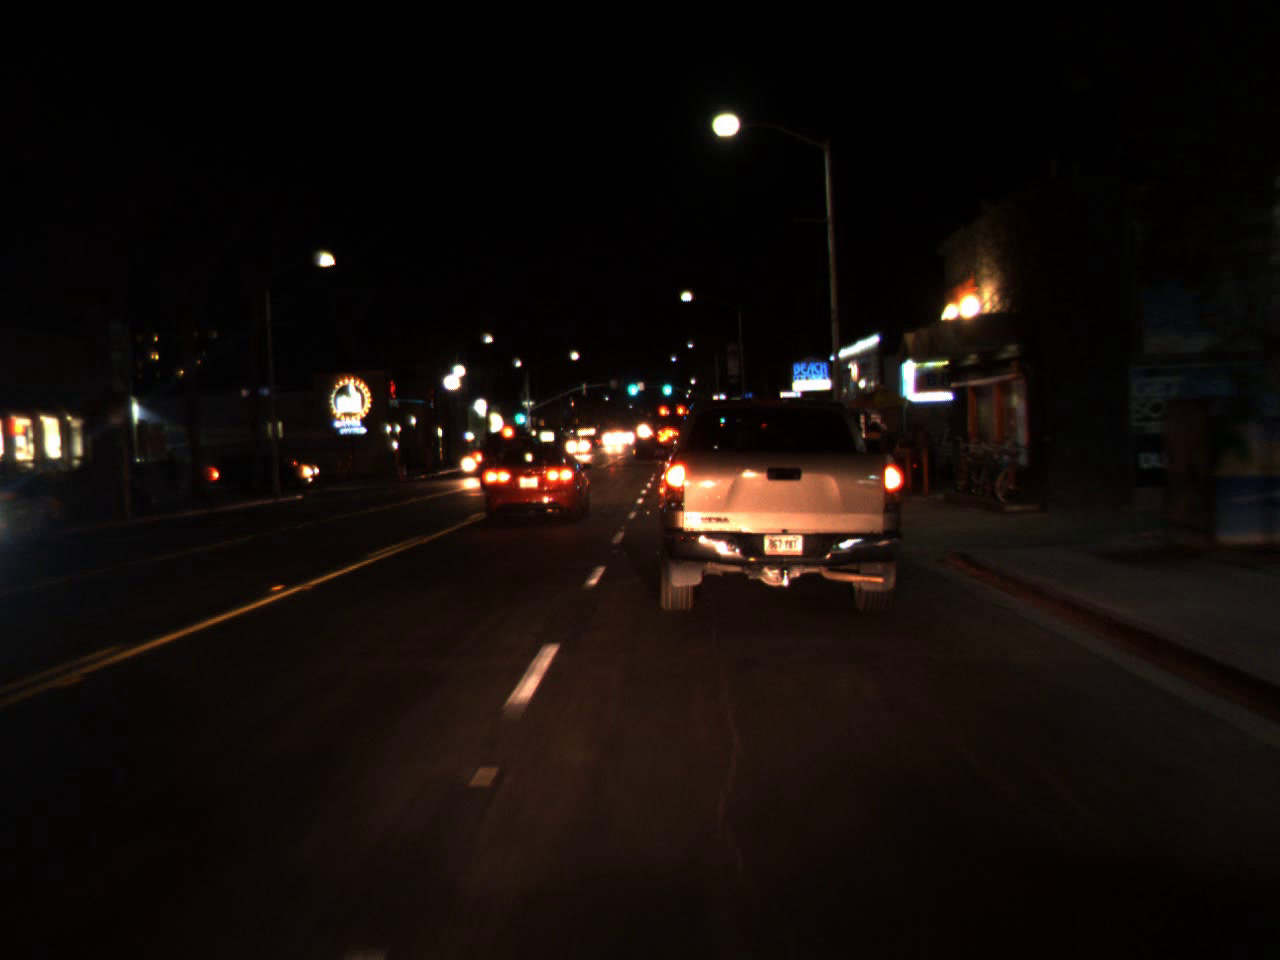go: (623, 370, 641, 400), (512, 399, 524, 429), (660, 372, 672, 399)
